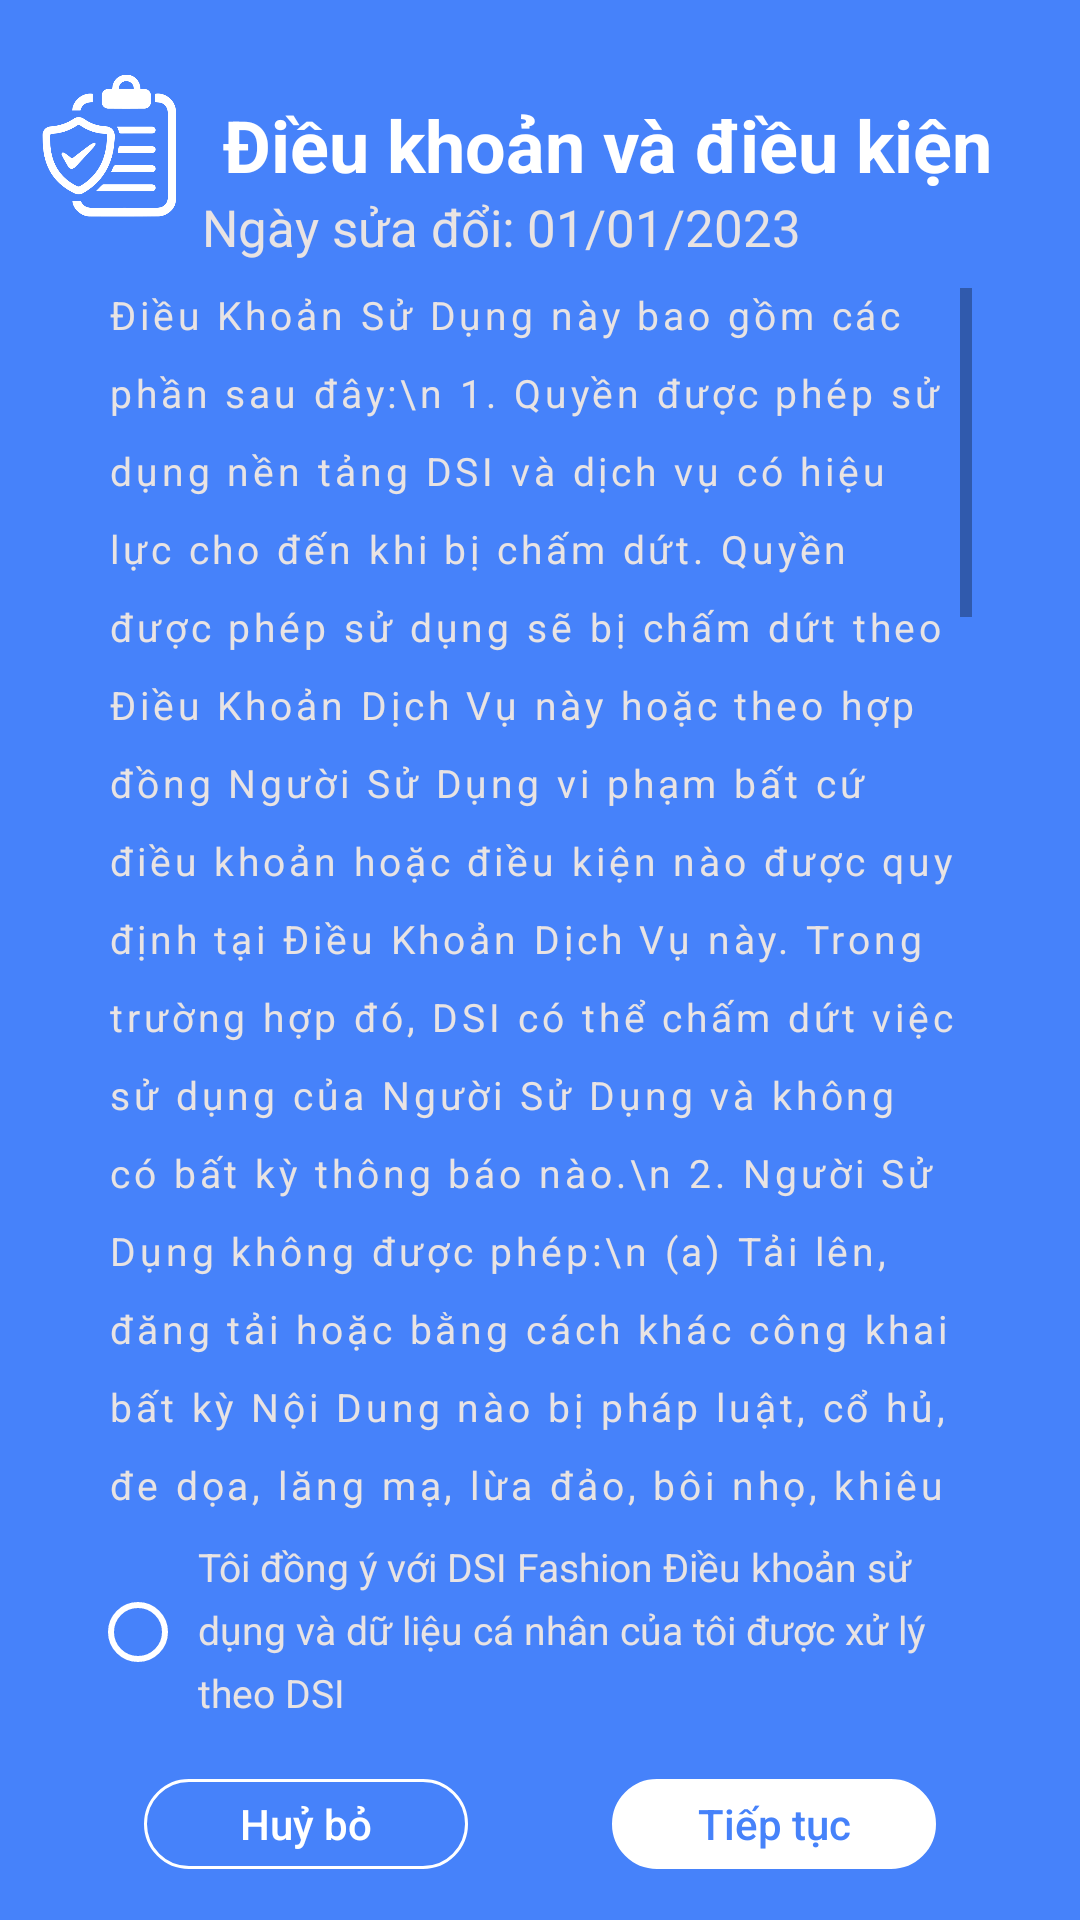

Locate icon controls on the screen. Image size 1080 × 1920, boxes as (x1, y1, x2, y2).
term: (42, 75, 176, 217)
